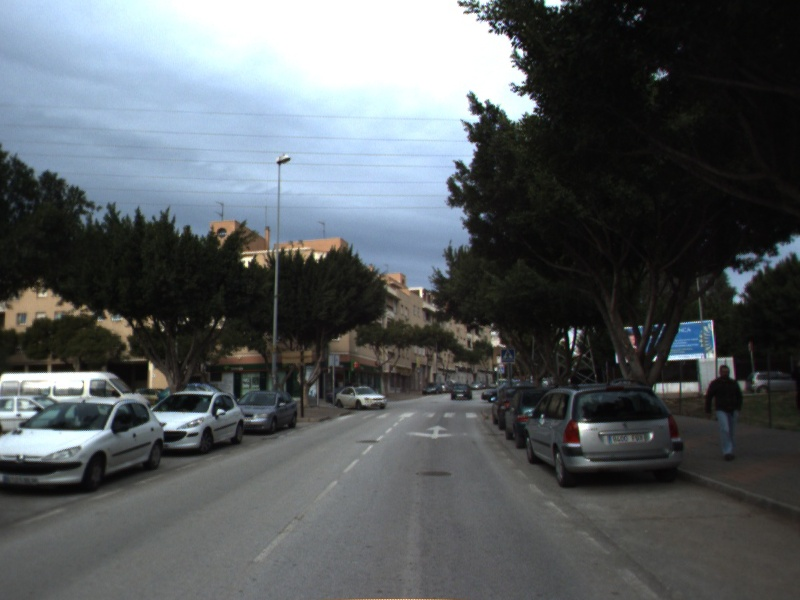STRAIGHT_LEFT_RIGHT: (404, 424, 469, 441)
